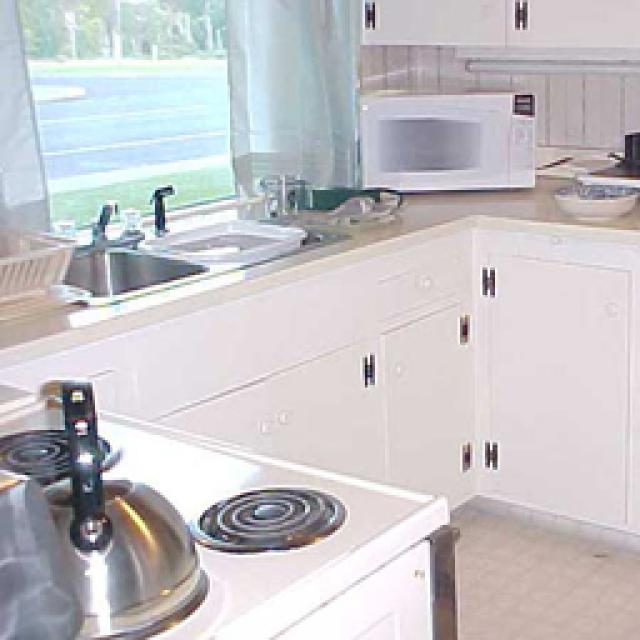2001: (15, 0, 230, 222)
Squirter: (142, 180, 170, 228)
bowl -X: (552, 182, 632, 220), (310, 188, 382, 208)
burner: (195, 482, 338, 542)
cabinet door: (358, 0, 635, 42)
cabinets: (0, 215, 635, 530)
counter bottom: (0, 158, 638, 348)
curtain crop: (230, 0, 360, 192)
dish soap: (0, 228, 88, 320)
dish towels: (320, 190, 400, 225)
floor -X: (452, 502, 638, 638)
kettle: (40, 380, 200, 638)
lamp crop: (452, 45, 635, 70)
microwave oven: (348, 85, 530, 188)
mug: (258, 178, 310, 220), (620, 130, 638, 168)
oven cloth: (278, 528, 455, 635)
sink basin: (62, 208, 352, 302)
sink occluded: (72, 198, 145, 258)
stove burner: (0, 395, 455, 635), (0, 392, 442, 632)
tea pot: (45, 385, 205, 635)
